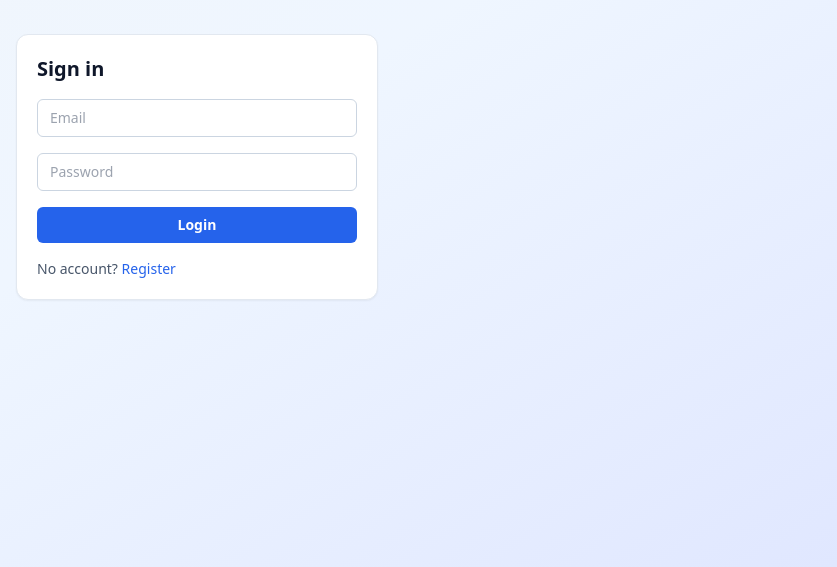
it: Authentication UI › shows login form and surfaces API error feedback
Expected: the heading "Sign in" is shown, [37,55,104,82]
Type "investor@example.com" into the field with placeholder "Email" at (197, 118), box [37,99,357,137]
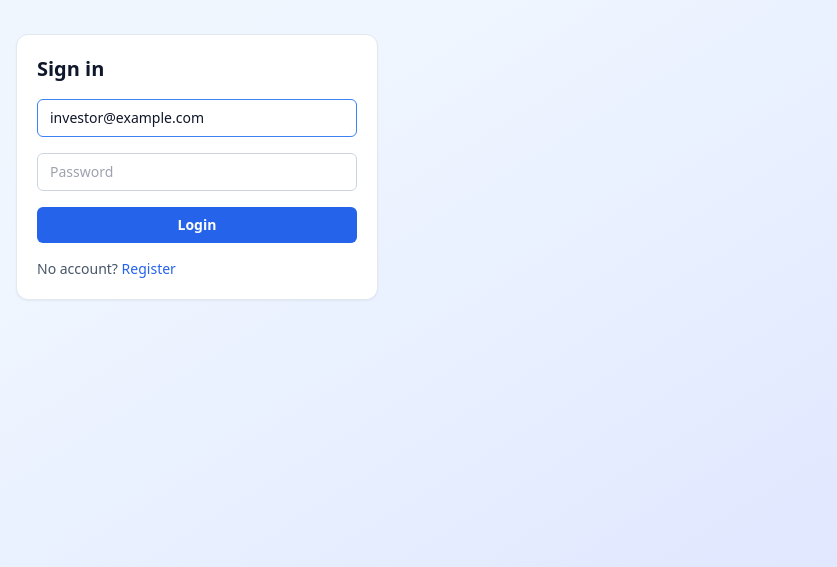
Type "WrongPassword123!" into the password field with placeholder "Password" at (197, 172), box [37,153,357,191]
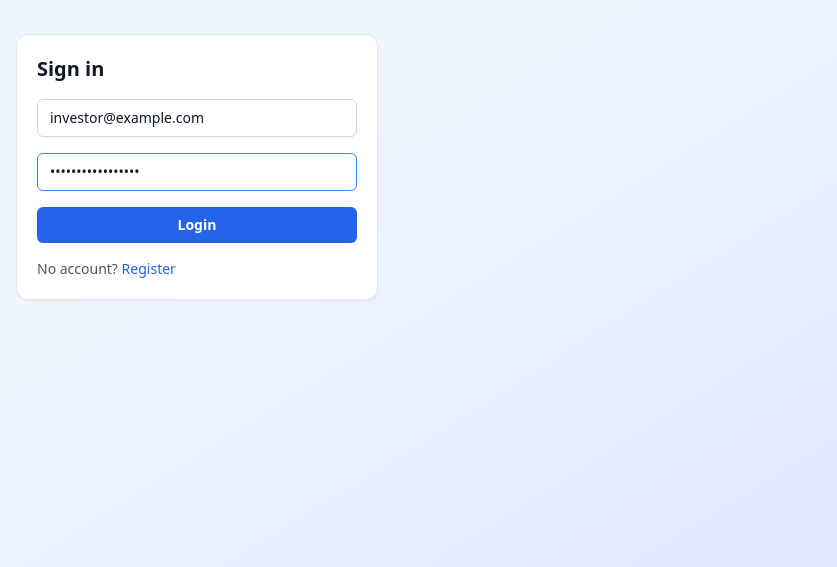
Click the button "Login" at (197, 225), box [37,207,357,243]
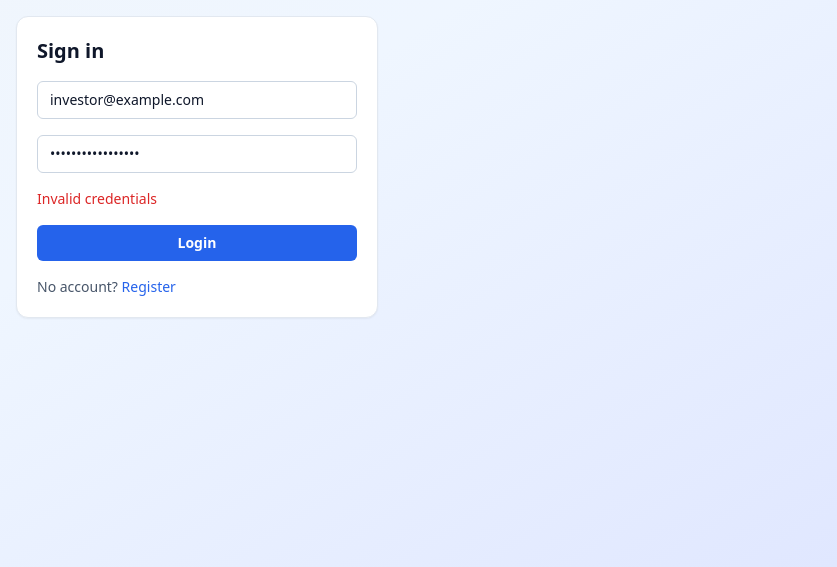
Expected: the text "Invalid credentials" is shown, [37,189,157,208]
